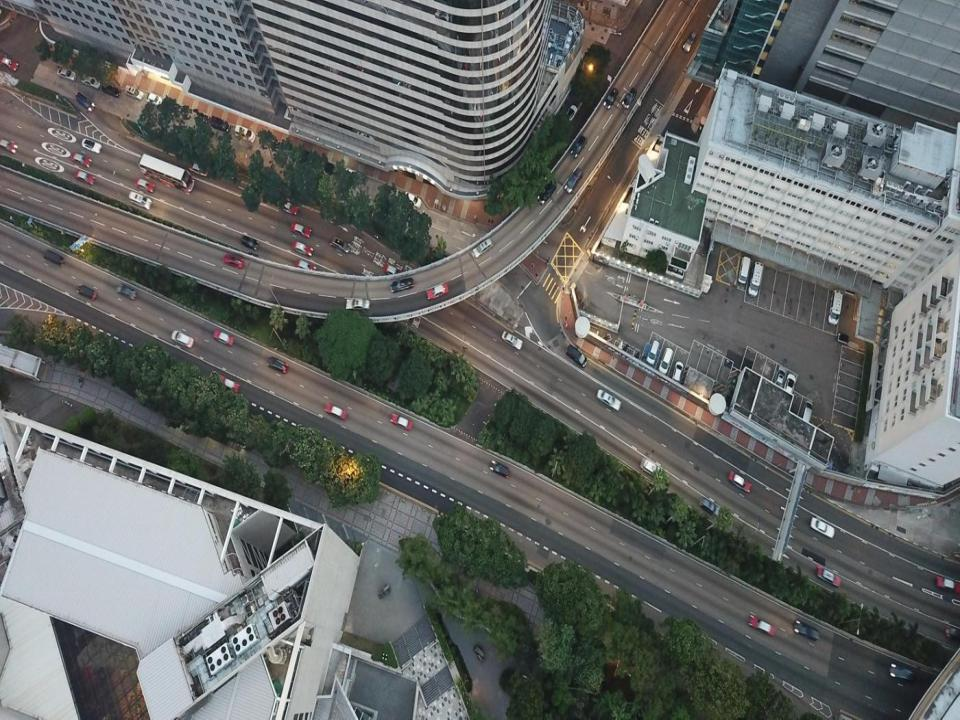bus: (139, 154, 194, 194)
car: (815, 564, 840, 588), (794, 620, 820, 642), (888, 664, 916, 684), (729, 468, 752, 492), (700, 496, 723, 519), (569, 132, 585, 164), (487, 458, 511, 479), (749, 612, 773, 633), (932, 575, 960, 593), (596, 389, 622, 408), (501, 329, 523, 351), (640, 456, 664, 476), (537, 180, 556, 205), (322, 402, 349, 419), (811, 517, 835, 536), (400, 193, 424, 212), (212, 328, 234, 348), (266, 354, 288, 374), (135, 174, 155, 196), (216, 376, 238, 396), (294, 258, 316, 278), (389, 413, 412, 431), (425, 282, 448, 300), (384, 262, 404, 282), (292, 239, 314, 257), (1, 53, 18, 76), (66, 152, 90, 168), (389, 278, 415, 292), (783, 373, 796, 401), (289, 223, 311, 239), (81, 136, 101, 153), (276, 199, 296, 216), (221, 252, 243, 267), (239, 234, 257, 252), (80, 73, 98, 91), (77, 283, 98, 298), (170, 331, 192, 345), (75, 170, 97, 184), (776, 364, 787, 392), (188, 161, 210, 175), (118, 284, 138, 299), (345, 298, 370, 310), (563, 104, 576, 127), (56, 69, 78, 82), (328, 236, 349, 249), (683, 30, 696, 51), (604, 86, 616, 108), (622, 87, 636, 105), (672, 361, 682, 385), (146, 92, 161, 107), (0, 138, 16, 152), (946, 625, 960, 638), (101, 85, 118, 94)
van: (747, 262, 764, 296), (566, 346, 589, 368), (564, 166, 582, 194), (43, 245, 65, 266), (128, 191, 152, 210), (829, 290, 842, 323), (738, 253, 750, 287), (76, 93, 97, 112), (472, 240, 493, 258), (659, 349, 672, 376), (645, 341, 661, 362), (235, 125, 256, 141), (802, 400, 813, 428), (124, 85, 141, 103), (211, 117, 229, 132)
